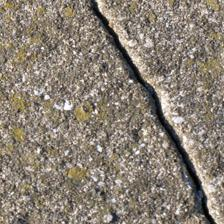Crack: (89, 4, 214, 218)
